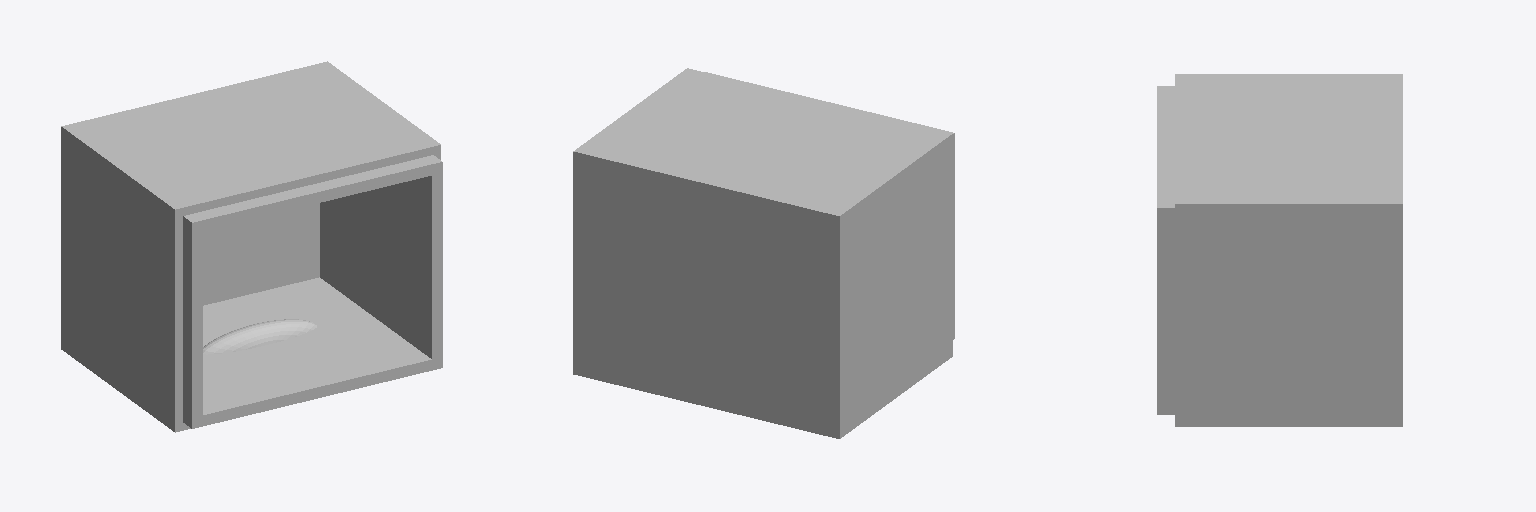
Rendered from cassetto.obj.
3 views of the same model, side by side, from view 1: azimuth 30°, elevation 25°; view 2: azimuth 150°, elevation 25°; view 3: azimuth 270°, elevation 25° (orthographic).
Parts seen in each view (by area): view 1: obj_0; view 2: obj_0; view 3: obj_0.
Part boxes in pixels (bbox=[...]): obj_0: bbox=[61, 61, 442, 432]; obj_0: bbox=[573, 68, 954, 438]; obj_0: bbox=[1157, 74, 1402, 426].
Size of the model in its own units: 25 by 21 by 20.